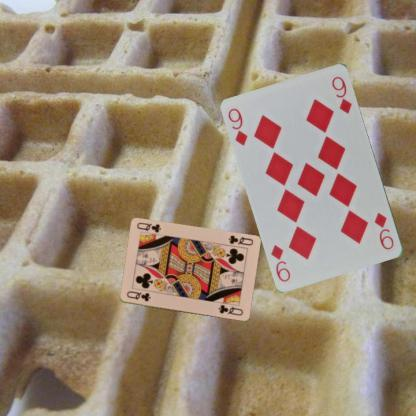9d: (225, 106, 250, 147), (372, 209, 395, 252)
Qc: (225, 233, 254, 247), (124, 289, 152, 303)
